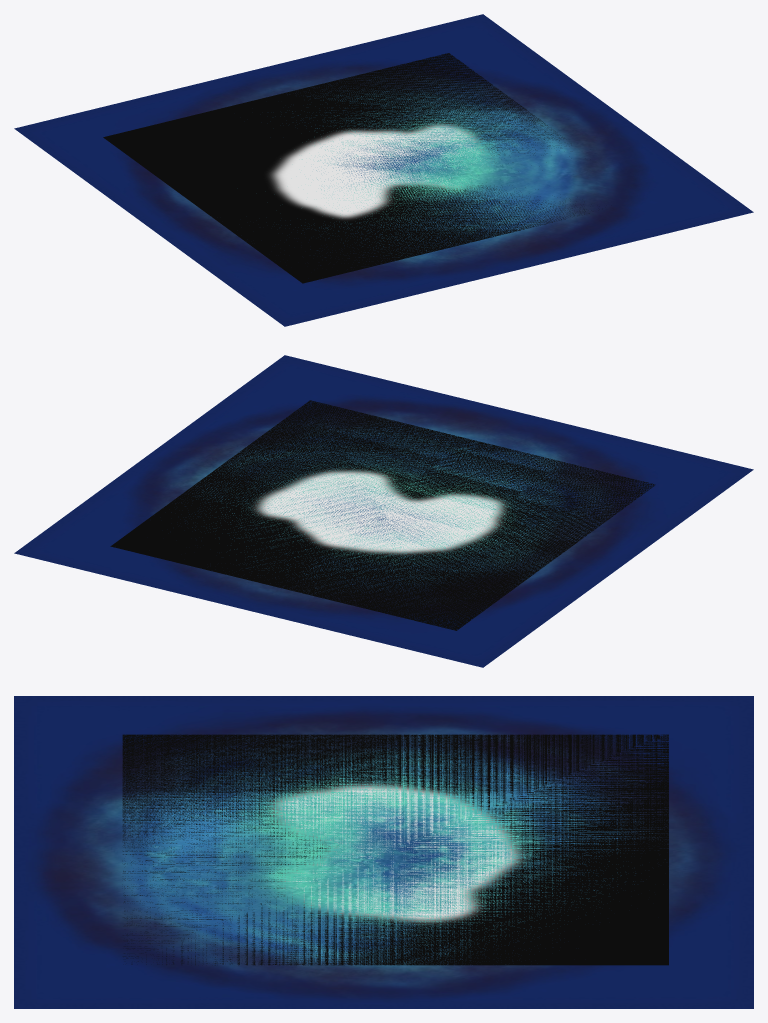
File: pir_m_are_isl_cangrejos_ocean.fbx
The picture shows the model from 3 angles, top to bottom: view 1: azimuth 30°, elevation 25°; view 2: azimuth 150°, elevation 25°; view 3: azimuth 270°, elevation 25°; orthographic projection. The views are drawn at different scales.
Visible parts, largest first — view 1: water_color, water_alpha; view 2: water_color, water_alpha; view 3: water_color, water_alpha.
Part boxes in pixels (<box>): water_color: <box>14,14,753,326</box>; water_alpha: <box>103,53,589,283</box>; water_color: <box>14,355,753,667</box>; water_alpha: <box>110,400,655,630</box>; water_color: <box>14,696,753,1008</box>; water_alpha: <box>122,734,668,965</box>.
Size of what is drawn, in the model's own units: 251102 by 0.0409 by 251103.
Materials: 2 (2 with a texture image).
